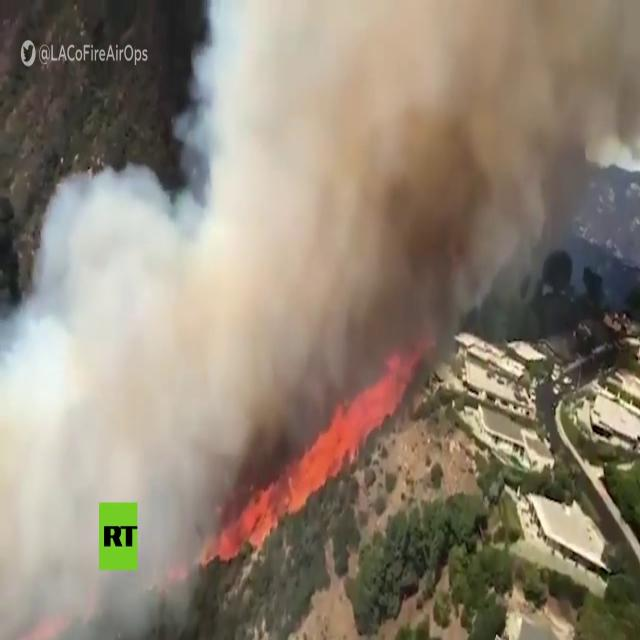smoke: (43, 212, 489, 382), (218, 0, 617, 178), (3, 399, 214, 629)
